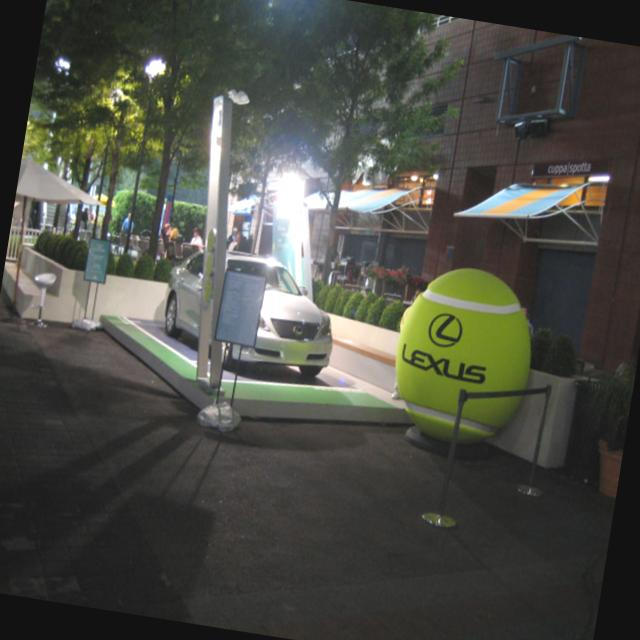Tennis Ball: (385, 261, 546, 458)
